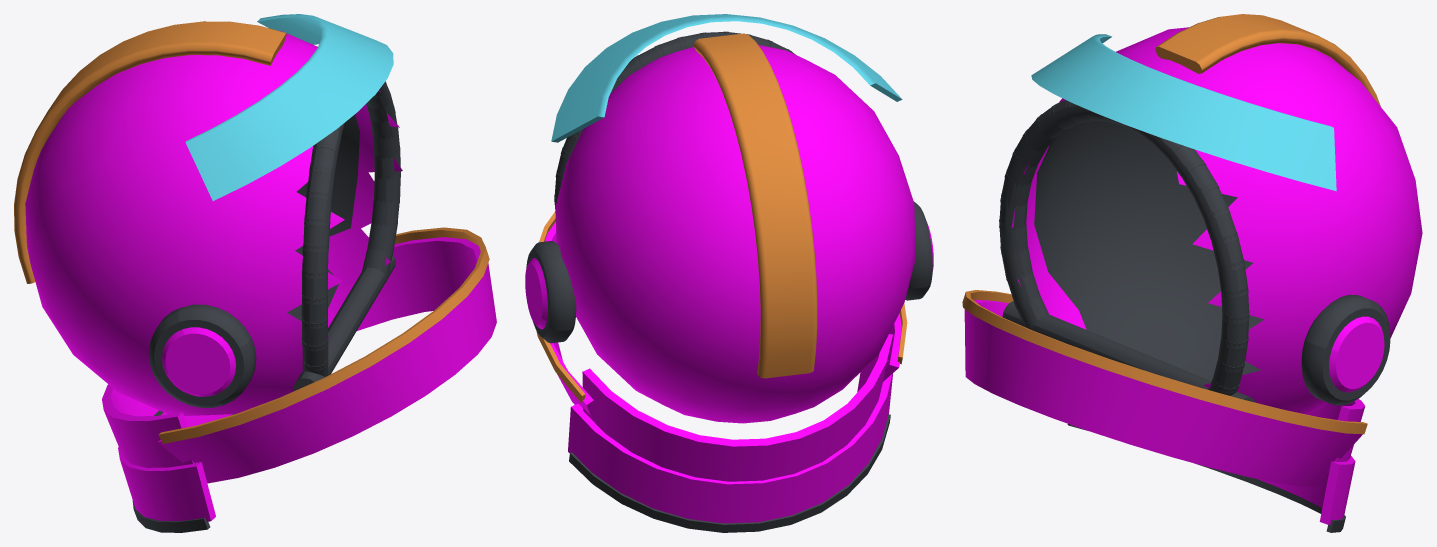
Rendered from objet_armure3_casque.glb.
3 views of the same model, side by side, from view 1: azimuth 30°, elevation 25°; view 2: azimuth 150°, elevation 25°; view 3: azimuth 270°, elevation 25° (orthographic). The views are drawn at different scales.
Visible parts, largest first — view 1: tete__casque_teinte.010, tete__casque_teinte_sombre.010, tete__casque_visiere.004, tete__casque_composite_bande.002; view 2: tete__casque_teinte.010, tete__casque_composite_bande.002, tete__casque_teinte_sombre.010, tete__casque_visiere.004; view 3: tete__casque_teinte.010, tete__casque_teinte_sombre.010, tete__casque_visiere.004, tete__casque_composite_bande.002.
Boxes of the visible parts, <box> form: tete__casque_teinte.010: <box>25,31,496,521</box>; tete__casque_teinte_sombre.010: <box>132,81,400,532</box>; tete__casque_visiere.004: <box>185,14,393,200</box>; tete__casque_composite_bande.002: <box>14,21,489,443</box>; tete__casque_teinte.010: <box>525,45,933,523</box>; tete__casque_composite_bande.002: <box>536,33,907,402</box>; tete__casque_teinte_sombre.010: <box>526,31,932,532</box>; tete__casque_visiere.004: <box>551,14,902,142</box>; tete__casque_teinte.010: <box>964,27,1422,524</box>; tete__casque_teinte_sombre.010: <box>999,100,1390,532</box>; tete__casque_visiere.004: <box>1031,34,1336,191</box>; tete__casque_composite_bande.002: <box>962,14,1380,434</box>.
Size of the model in its own units: 0.2692 by 0.3157 by 0.2682.
